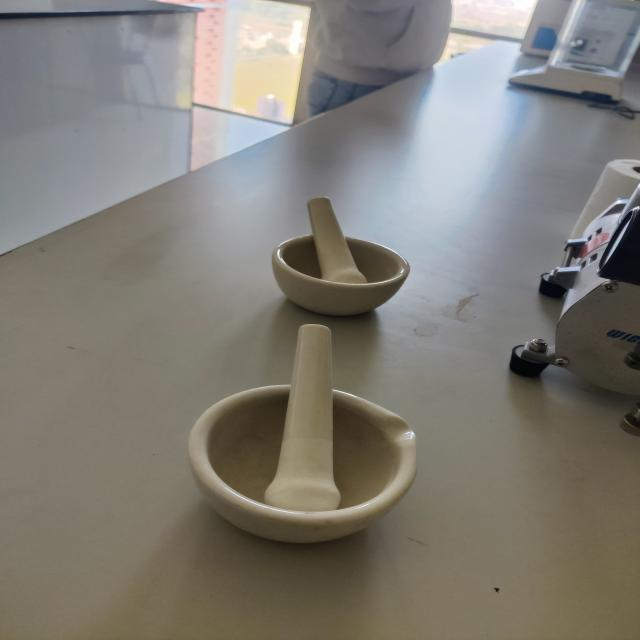Porcelain_Mortar Pestle: (148, 308, 461, 579), (248, 173, 451, 324)
